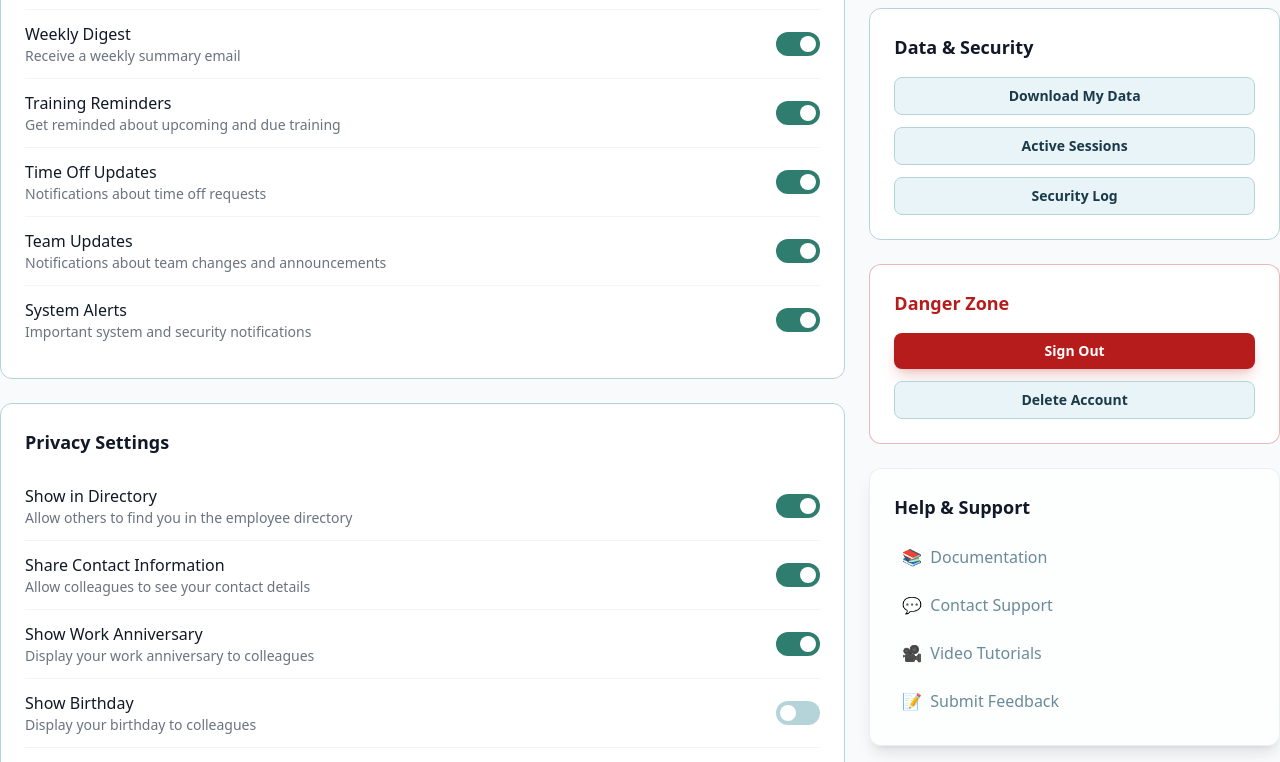
Settings Component › opens Delete Account modal when clicked
(page scrolled)
Click the button with test id "delete-account-button". click: x=1075, y=400
box: [894, 381, 1255, 419]
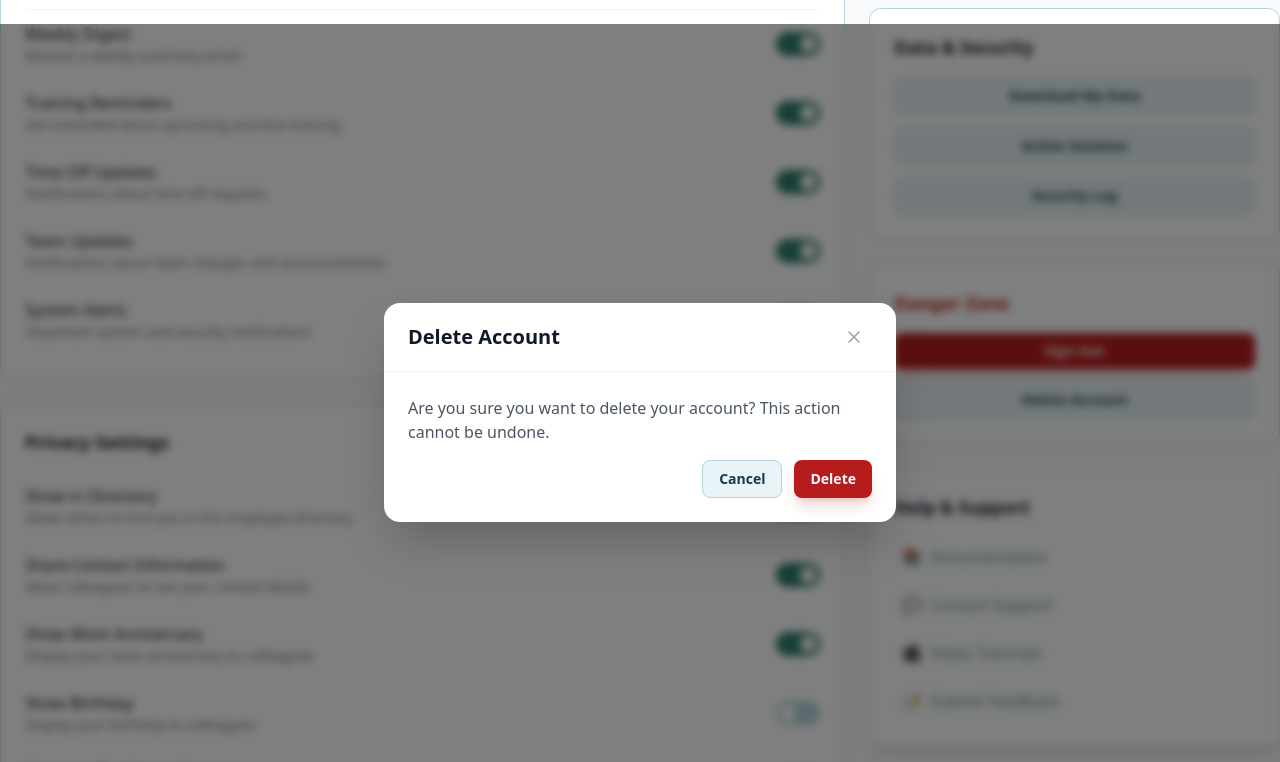
Now the text "Are you sure you want to delete your account" is shown, box [408, 396, 840, 442]
